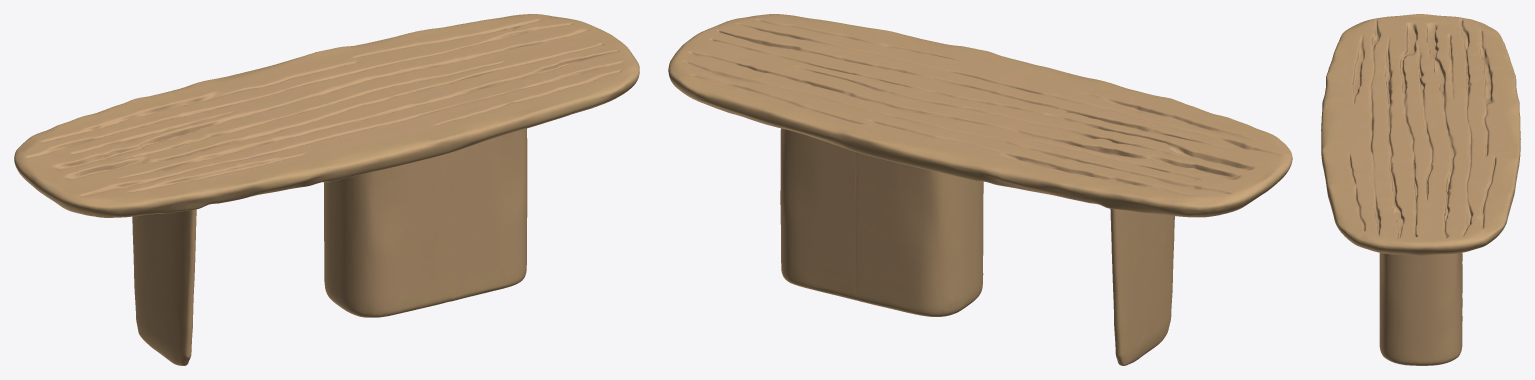
3 renders of one model, left to right at view 1: azimuth 30°, elevation 25°; view 2: azimuth 150°, elevation 25°; view 3: azimuth 270°, elevation 25°, orthographic. The views are drawn at different scales.
Visible parts, largest first — view 1: tripo_node_757c84dc-64f5-485a-987b-173c07779c59; view 2: tripo_node_757c84dc-64f5-485a-987b-173c07779c59; view 3: tripo_node_757c84dc-64f5-485a-987b-173c07779c59.
Boxes of the visible parts, x1,y1,x2,y2 form: tripo_node_757c84dc-64f5-485a-987b-173c07779c59: (14,14,639,365); tripo_node_757c84dc-64f5-485a-987b-173c07779c59: (668,14,1292,365); tripo_node_757c84dc-64f5-485a-987b-173c07779c59: (1321,14,1520,365).
Bounding box in the file's own units: 2.22 × 0.75 × 0.8079.
Materials: 1 (1 with a texture image).
